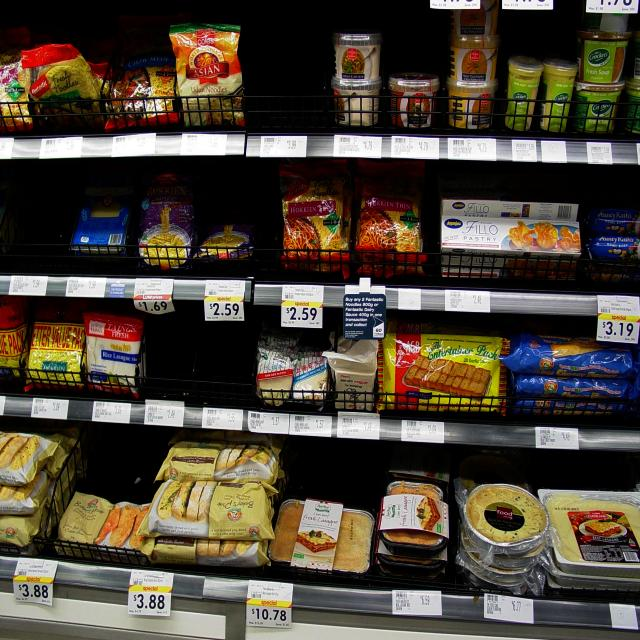empty_space: (255, 24, 325, 121), (159, 335, 244, 393), (15, 180, 57, 256), (91, 444, 143, 488)
